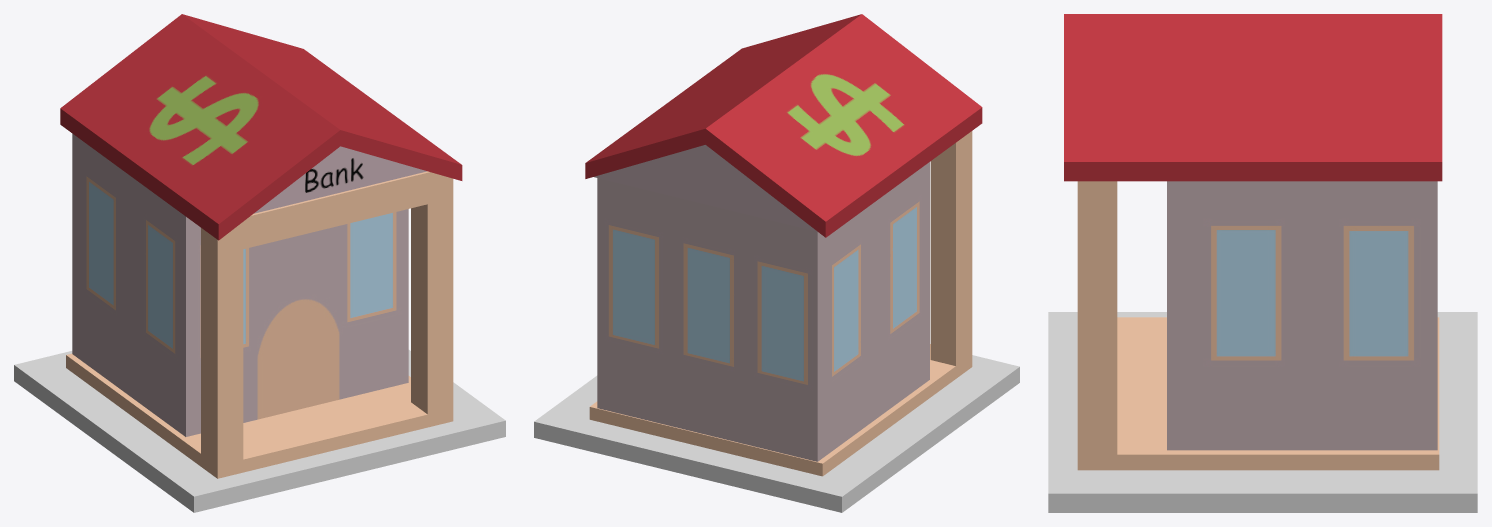
The model's file is Bank02_1.FBX.
3 views of the same model, side by side, from view 1: azimuth 30°, elevation 25°; view 2: azimuth 150°, elevation 25°; view 3: azimuth 270°, elevation 25° (orthographic). The views are drawn at different scales.
Parts seen in each view (by area): view 1: Box002, Box001; view 2: Box002, Box001; view 3: Box002, Box001.
Part boxes in pixels (left/top/right/bottom): Box002: left=60, top=14, right=462, bottom=478; Box001: left=14, top=350, right=505, bottom=512; Box002: left=585, top=14, right=982, bottom=476; Box001: left=534, top=355, right=1019, bottom=512; Box002: left=1064, top=14, right=1442, bottom=470; Box001: left=1048, top=312, right=1477, bottom=512.
Size of the model in its own units: 1 by 1.04 by 1.
Materials: 4 (4 with a texture image).
